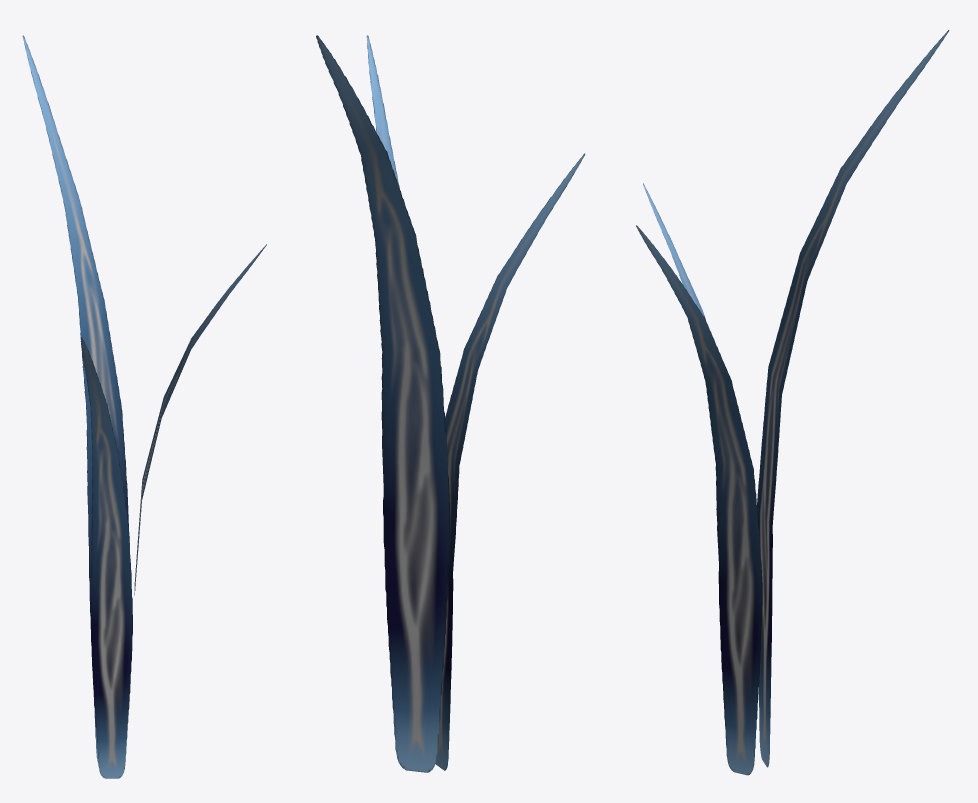
The model's file is MarshGrassClump_d01.fbx.
3 renders of one model, left to right at view 1: azimuth 30°, elevation 25°; view 2: azimuth 150°, elevation 25°; view 3: azimuth 270°, elevation 25°, orthographic. The views are drawn at different scales.
Parts seen in each view (by area): view 1: GrassClump_d01; view 2: GrassClump_d01; view 3: GrassClump_d01.
Part boxes in pixels (<box>): GrassClump_d01: <box>22,35,266,778</box>; GrassClump_d01: <box>316,35,585,772</box>; GrassClump_d01: <box>636,30,949,775</box>.
Bounding box in the file's own units: 199 × 677 × 272.
